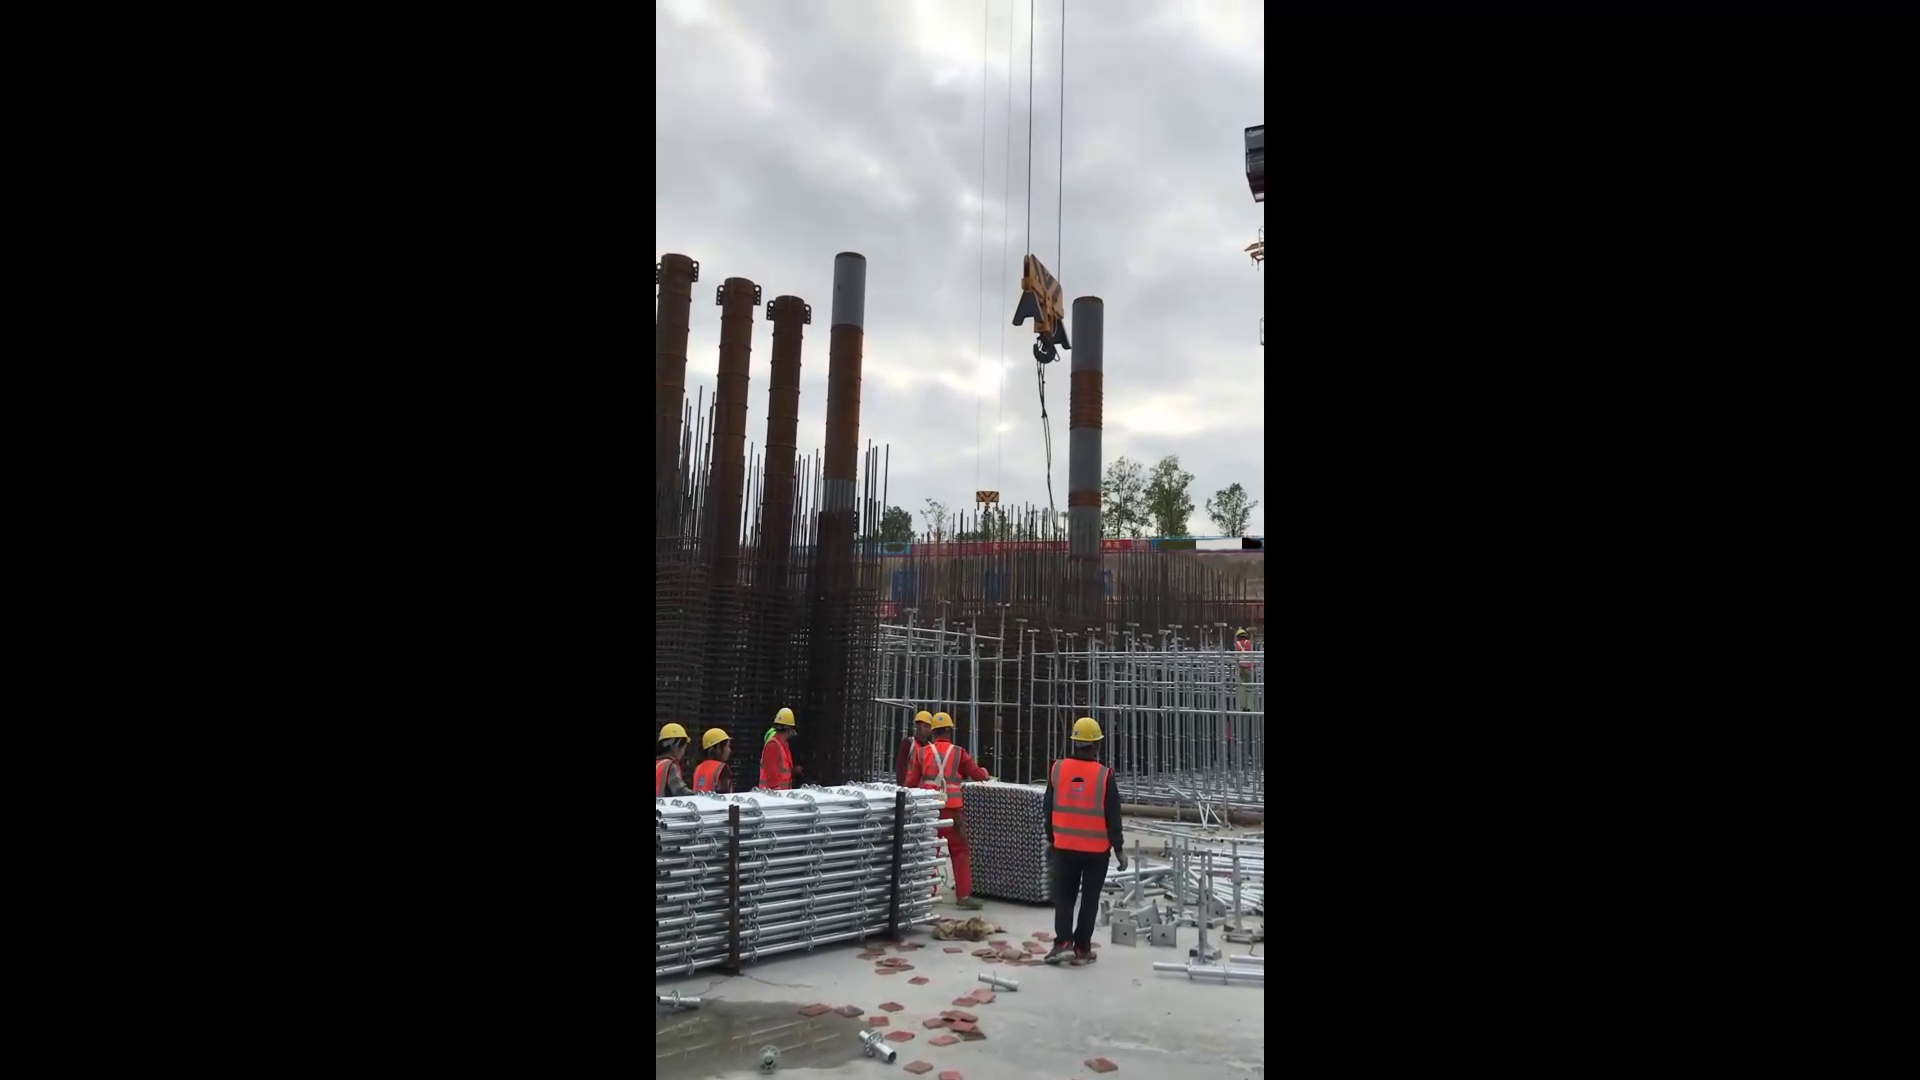helmet: (1071, 717, 1105, 742), (655, 723, 691, 744), (701, 728, 730, 748), (932, 711, 953, 731), (773, 709, 797, 727), (916, 710, 930, 727)
hook: (1010, 250, 1075, 381), (973, 488, 1001, 511)
person: (1040, 714, 1132, 971), (918, 710, 986, 910), (762, 707, 807, 788), (899, 706, 937, 796), (652, 723, 696, 798), (693, 726, 741, 796), (1230, 627, 1258, 711)
scaffold: (651, 785, 940, 1004), (967, 781, 1047, 911)
vest: (1049, 758, 1113, 861), (915, 740, 968, 813), (762, 732, 795, 790), (653, 758, 696, 793), (696, 756, 732, 793)
